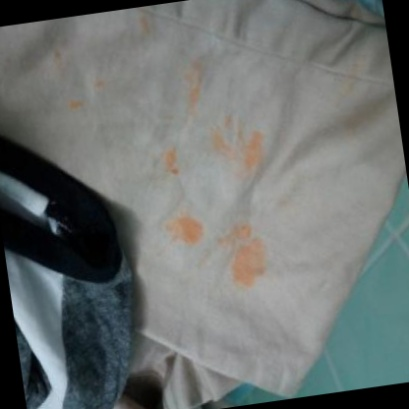kimchi: (215, 218, 281, 298), (207, 109, 268, 178), (320, 48, 375, 113), (157, 208, 209, 251), (178, 53, 206, 112), (161, 139, 186, 178), (62, 90, 88, 115), (136, 14, 158, 38), (91, 73, 104, 92), (48, 50, 63, 65)
